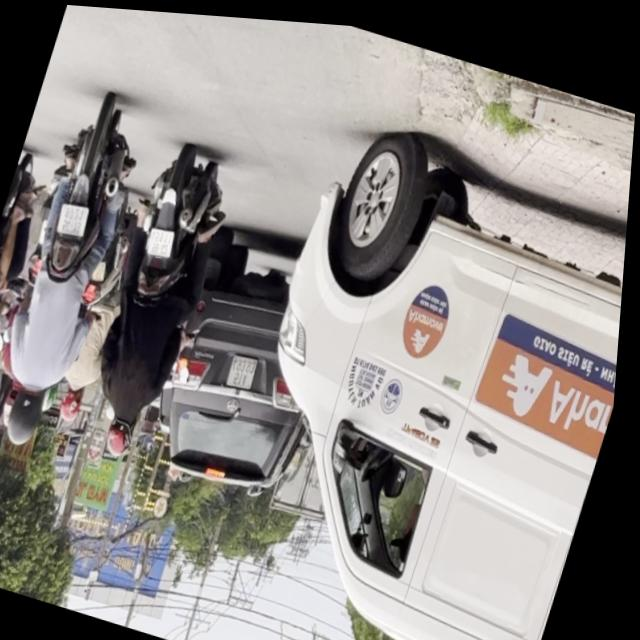helmet: (2, 380, 54, 450), (105, 406, 143, 457), (60, 381, 91, 424)
licenseplate: (70, 129, 245, 472), (0, 78, 156, 460), (51, 191, 157, 432), (0, 143, 55, 427)
nohelmet: (56, 198, 92, 237), (145, 221, 178, 258)
